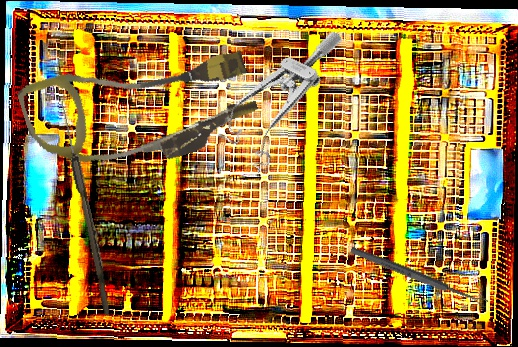Cannula: (15, 22, 265, 197)
Speculum: (210, 5, 344, 181)
Surgical Spoon: (55, 99, 116, 316), (349, 245, 489, 309)
